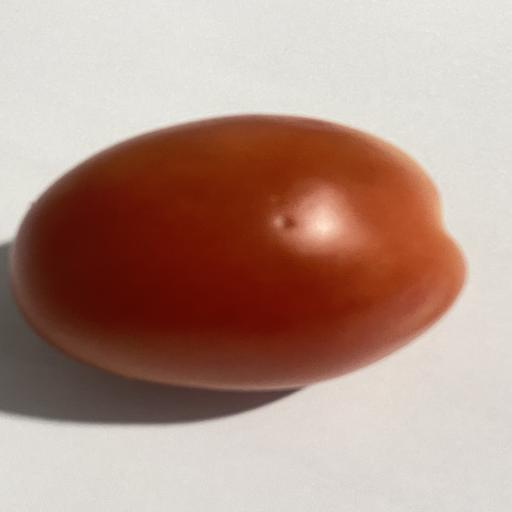ripe: (11, 116, 465, 390)
